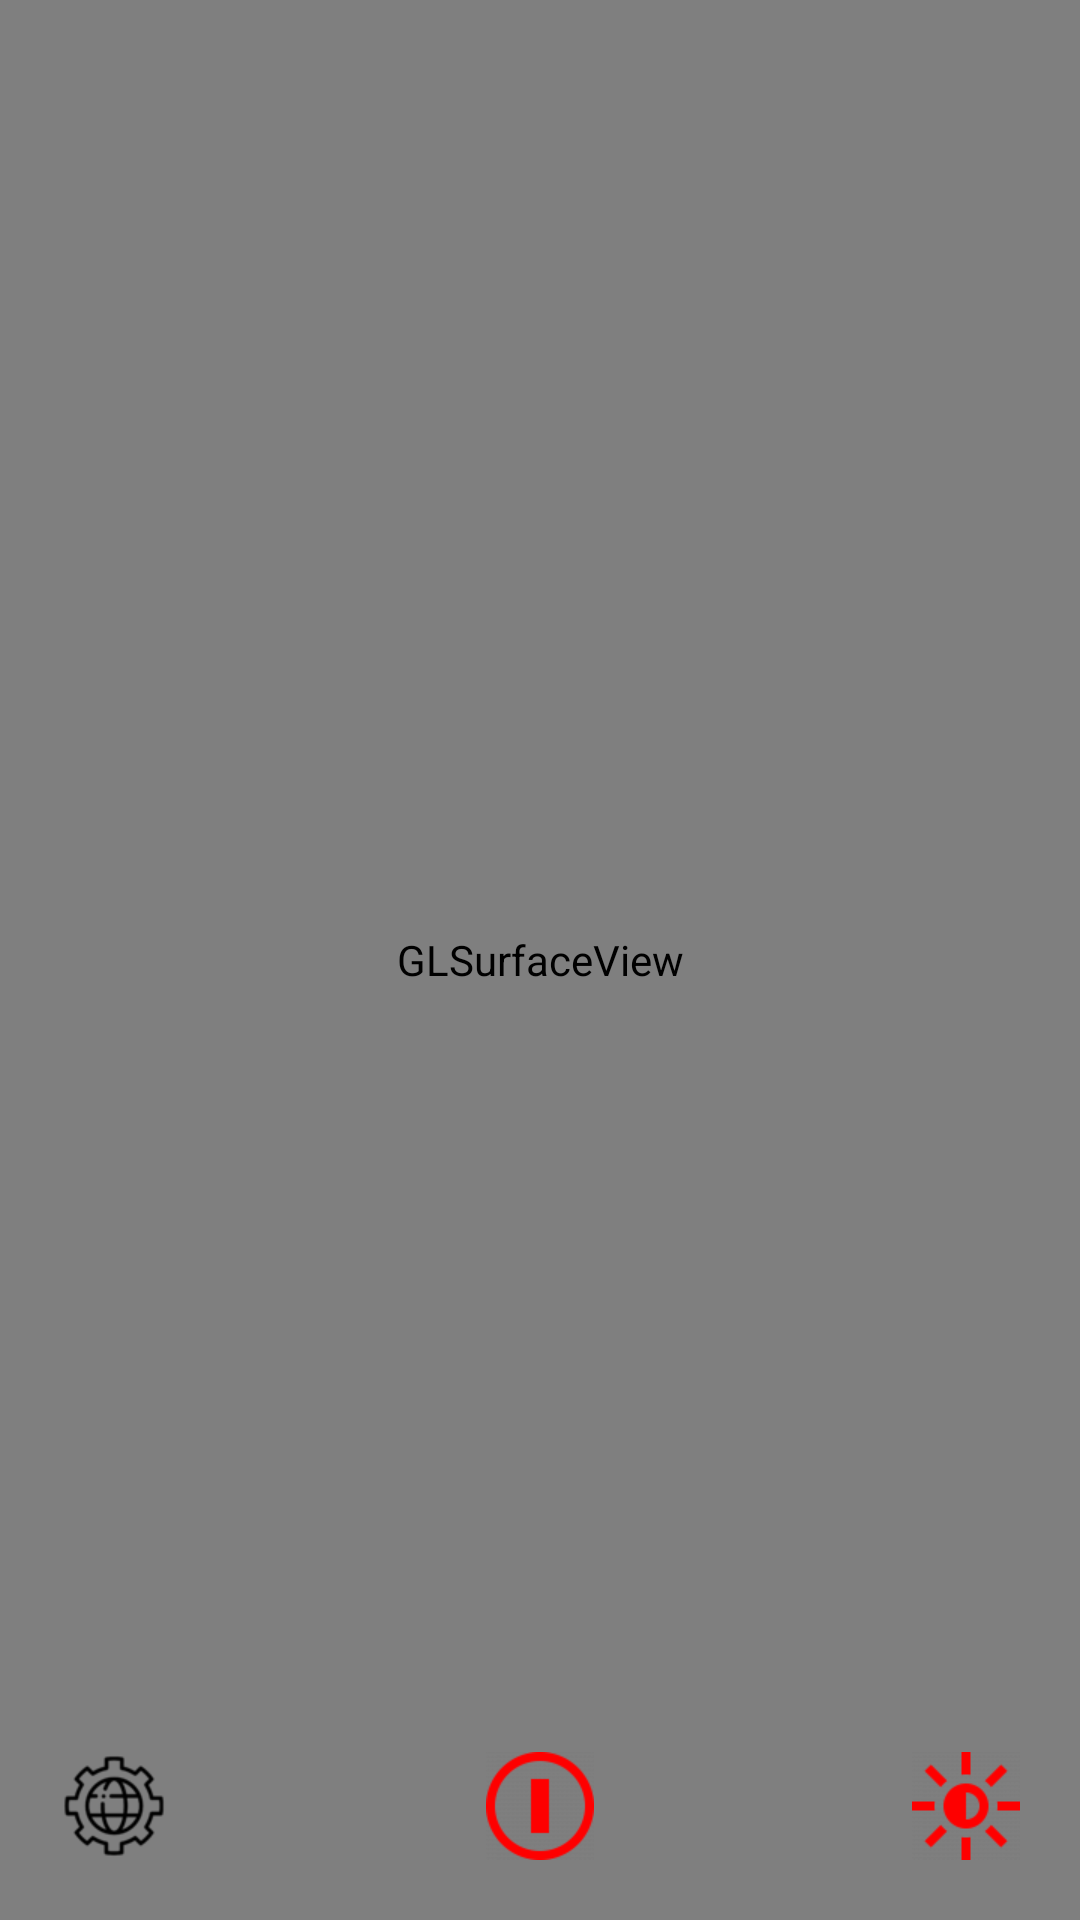

Locate icon controls on the screen. Image size 1080*1920, boxes as {"x1": x1, "y1": y1, "x2": x2, "y2": y2}.
Setting: {"x1": 64, "y1": 1756, "x2": 164, "y2": 1856}
The Switch Of Auto Switch: {"x1": 486, "y1": 1752, "x2": 594, "y2": 1860}
The Switch Of Day And Night: {"x1": 912, "y1": 1752, "x2": 1020, "y2": 1860}
